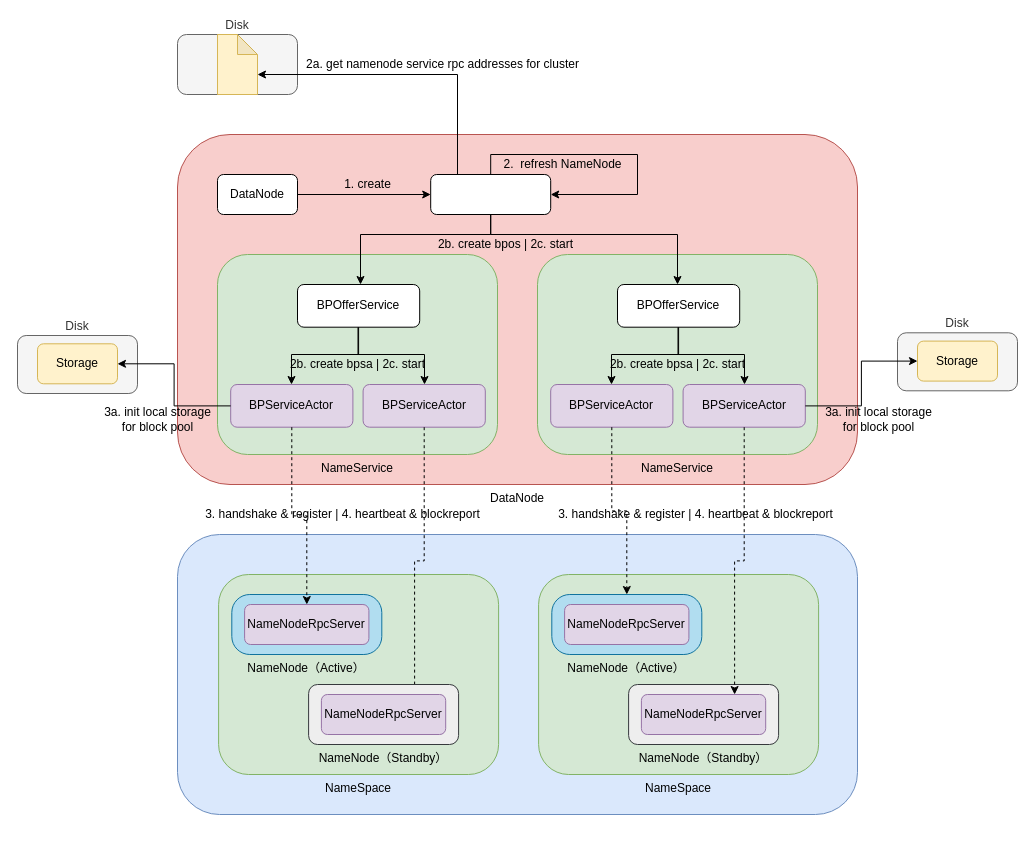
The diagram is 1035 pixels wide and 852 high, and some of its shapes have lost their labels. The box of each missing label's shape, as (x1, y1, x2, y2) in pixels:
BlockPoolManager: (430, 174, 551, 214)
Federation Cluster: (176, 534, 858, 814)
hdfs-site.xml: (216, 34, 258, 94)
